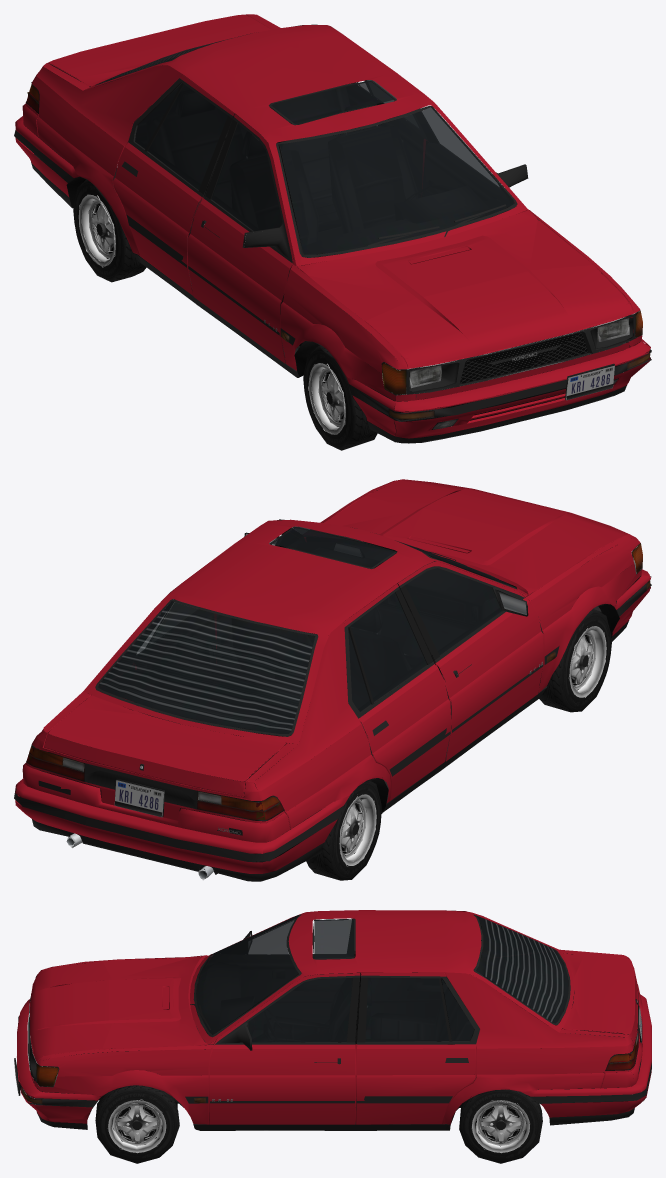
The model's file is kiri_lod1.glb.
3 views of the same model, one above another, from view 1: azimuth 30°, elevation 25°; view 2: azimuth 150°, elevation 25°; view 3: azimuth 270°, elevation 25° (orthographic). The views are drawn at different scales.
Visible parts, largest first — view 1: kiri86_Body_kiri86_Bodymat_0, kiri86_Interior_UCB_Interior_Trim_0, kiri86_Hood_kiri86_Bodymat_0, kiri86_Windshield_UCB_Lights_and_Glass_Transperent_0, kiri86_Bottom_UCB_BOTTOM_GT_0, kiri86_Body_Glass_UCB_Lights_and_Glass_Transperent_0, kiri86_Bumper_front_kiri86_Bodymat_0, kiri86_Trunk_door_kiri86_Bodymat_0, kiri86_Bumper_Front_Inner_UCB_BOTTOM_GT_0, kiri86_Glass_Passenger_UCB_Lights_and_Glass_Transperent_0, wheel_FR, wheel_RR (+6 smaller); view 2: kiri86_Body_kiri86_Bodymat_0, kiri86_Interior_UCB_Interior_Trim_0, kiri86_Rear_window_UCB_Lights_and_Glass_Transperent_0, kiri86_Hood_kiri86_Bodymat_0, kiri86_Trunk_door_kiri86_Bodymat_0, kiri86_Bottom_UCB_BOTTOM_GT_0, kiri86_Body_Glass_UCB_Lights_and_Glass_Transperent_0, kiri86_Bumper_rear_kiri86_Bodymat_0, kiri86_bumper_rear_inner_UCB_BOTTOM_GT_0, kiri86_Glass_Passenger_UCB_Lights_and_Glass_Transperent_0, wheel_FR, wheel_RR (+6 smaller); view 3: kiri86_Body_kiri86_Bodymat_0, kiri86_Interior_UCB_Interior_Trim_0, kiri86_Hood_kiri86_Bodymat_0, kiri86_Bottom_UCB_BOTTOM_GT_0, kiri86_Body_Glass_UCB_Lights_and_Glass_Transperent_0, kiri86_Windshield_UCB_Lights_and_Glass_Transperent_0, kiri86_Rear_window_UCB_Lights_and_Glass_Transperent_0, wheel_FL, kiri86_Glass_Driver_UCB_Lights_and_Glass_Transperent_0, kiri86_Trunk_door_kiri86_Bodymat_0, wheel_RL, kiri86_Bumper_rear_kiri86_Bodymat_0 (+6 smaller).
Boxes of the visible parts, x1,y1,x2,y2 form: kiri86_Body_kiri86_Bodymat_0: (22,14,642,401); kiri86_Interior_UCB_Interior_Trim_0: (102,58,516,346); kiri86_Hood_kiri86_Bodymat_0: (297,209,633,368); kiri86_Windshield_UCB_Lights_and_Glass_Transperent_0: (279,107,514,254); kiri86_Bottom_UCB_BOTTOM_GT_0: (26,24,642,420); kiri86_Body_Glass_UCB_Lights_and_Glass_Transperent_0: (135,80,418,190); kiri86_Bumper_front_kiri86_Bodymat_0: (346,339,650,438); kiri86_Trunk_door_kiri86_Bodymat_0: (48,14,271,86); kiri86_Bumper_Front_Inner_UCB_BOTTOM_GT_0: (347,333,651,443); kiri86_Glass_Passenger_UCB_Lights_and_Glass_Transperent_0: (211,123,282,231); wheel_FR: (303,345,377,450); wheel_RR: (73,179,146,282); kiri86_Body_kiri86_Bodymat_0: (22,479,642,842); kiri86_Interior_UCB_Interior_Trim_0: (99,519,516,758); kiri86_Rear_window_UCB_Lights_and_Glass_Transperent_0: (98,601,314,733); kiri86_Hood_kiri86_Bodymat_0: (323,479,630,595); kiri86_Trunk_door_kiri86_Bodymat_0: (44,695,286,796); kiri86_Bottom_UCB_BOTTOM_GT_0: (26,490,642,880); kiri86_Body_Glass_UCB_Lights_and_Glass_Transperent_0: (151,526,427,711); kiri86_Bumper_rear_kiri86_Bodymat_0: (15,779,350,873); kiri86_bumper_rear_inner_UCB_BOTTOM_GT_0: (14,770,343,881); kiri86_Glass_Passenger_UCB_Lights_and_Glass_Transperent_0: (405,568,501,655); wheel_FR: (539,609,611,712); wheel_RR: (306,781,381,880); kiri86_Body_kiri86_Bodymat_0: (30,910,642,1124); kiri86_Interior_UCB_Interior_Trim_0: (194,915,568,1109); kiri86_Hood_kiri86_Bodymat_0: (30,955,208,1061); kiri86_Bottom_UCB_BOTTOM_GT_0: (27,914,644,1130); kiri86_Body_Glass_UCB_Lights_and_Glass_Transperent_0: (314,919,474,1041); kiri86_Windshield_UCB_Lights_and_Glass_Transperent_0: (196,915,298,1034); kiri86_Rear_window_UCB_Lights_and_Glass_Transperent_0: (476,916,568,1023); wheel_FL: (95,1085,179,1163); kiri86_Glass_Driver_UCB_Lights_and_Glass_Transperent_0: (248,978,352,1042); kiri86_Trunk_door_kiri86_Bodymat_0: (562,953,637,1044); wheel_RL: (459,1089,542,1163); kiri86_Bumper_rear_kiri86_Bodymat_0: (521,994,651,1117).
Bounding box in the file's own units: 1.81 × 1.36 × 4.45.
Materials: 8 (7 with a texture image).
